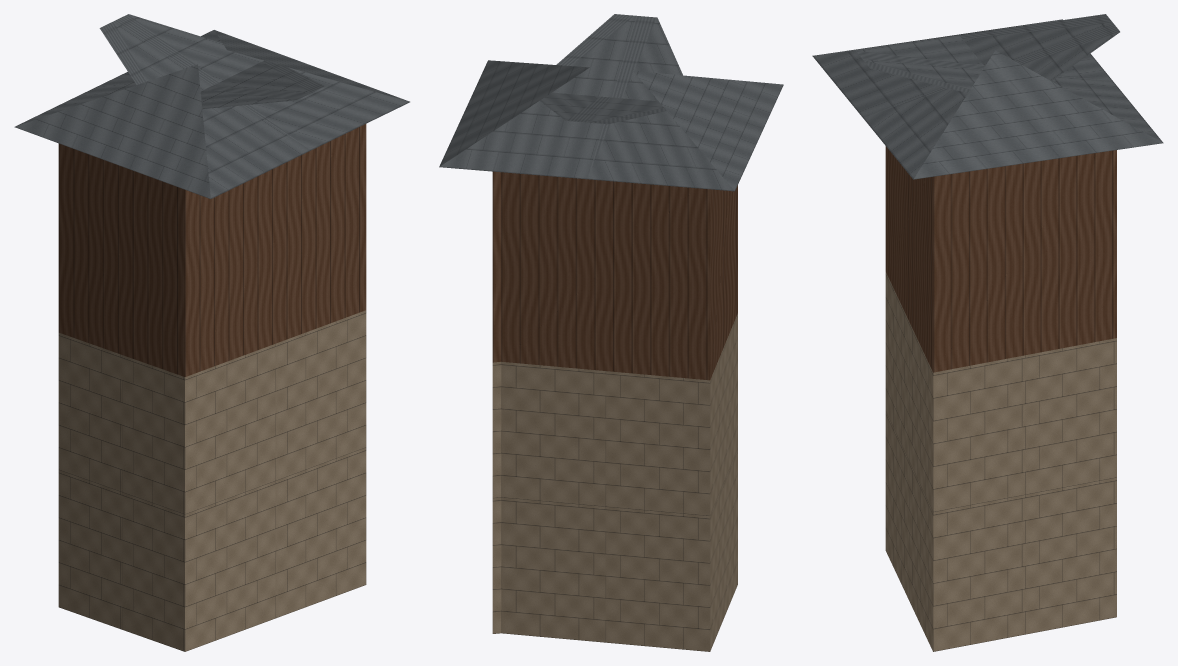
File: bld_c-18_18_510.gltf
3 renders of one model, left to right at view 1: azimuth 30°, elevation 25°; view 2: azimuth 150°, elevation 25°; view 3: azimuth 270°, elevation 25°, orthographic. The views are drawn at different scales.
Parts seen in each view (by area): view 1: bld_c-18_18_510; view 2: bld_c-18_18_510; view 3: bld_c-18_18_510.
Part boxes in pixels (x1,y1,x2,y2): bld_c-18_18_510: (14,14,409,651); bld_c-18_18_510: (439,14,783,651); bld_c-18_18_510: (812,14,1163,651).
Size of the model in its own units: 5.9 by 9.4 by 5.47.
3 materials, 3 textured.
